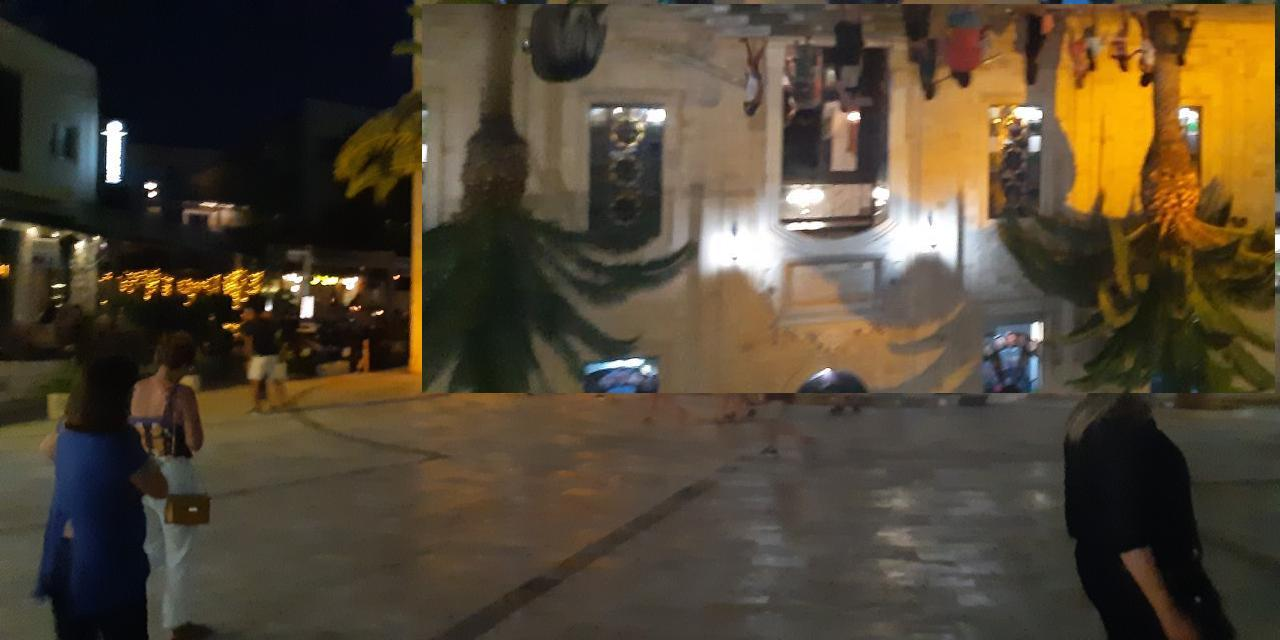Agios Titos: (423, 5, 1276, 394)
